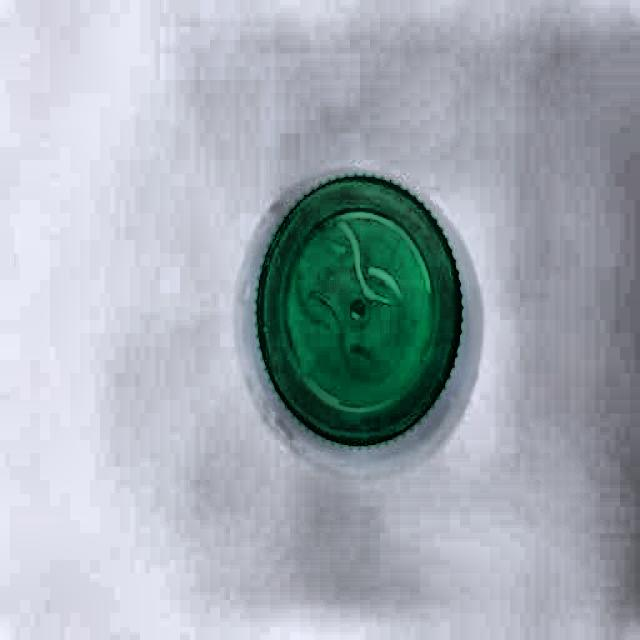plastic: (242, 167, 482, 471)
